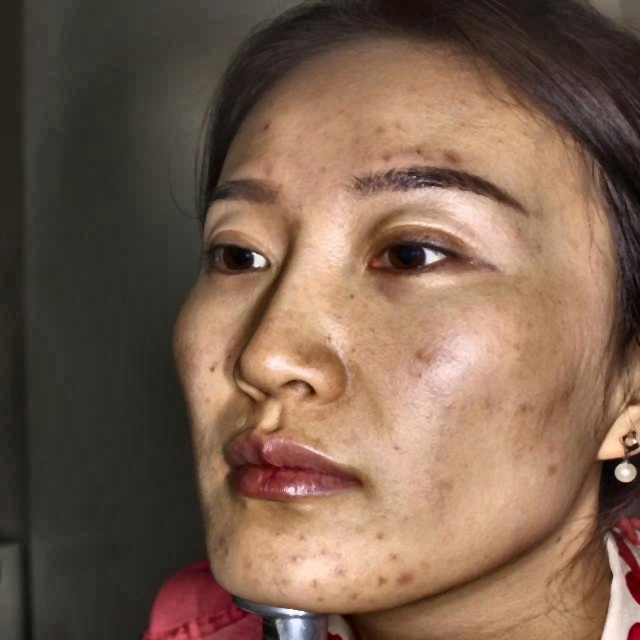pustule: (536, 450, 574, 489), (391, 566, 426, 602), (550, 374, 577, 413), (377, 542, 413, 570), (437, 148, 476, 172), (287, 548, 312, 572), (376, 144, 400, 166)
